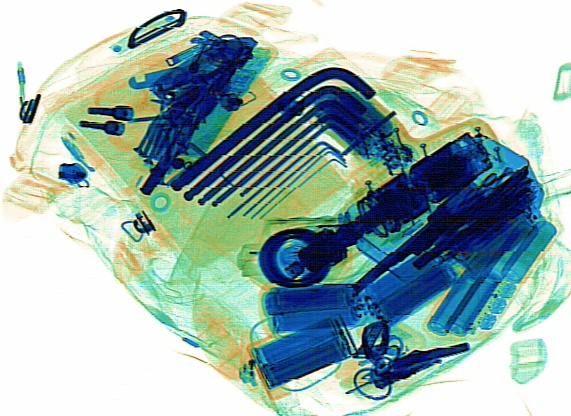lighter: (237, 326, 261, 384)
powerbank: (419, 196, 558, 340)
